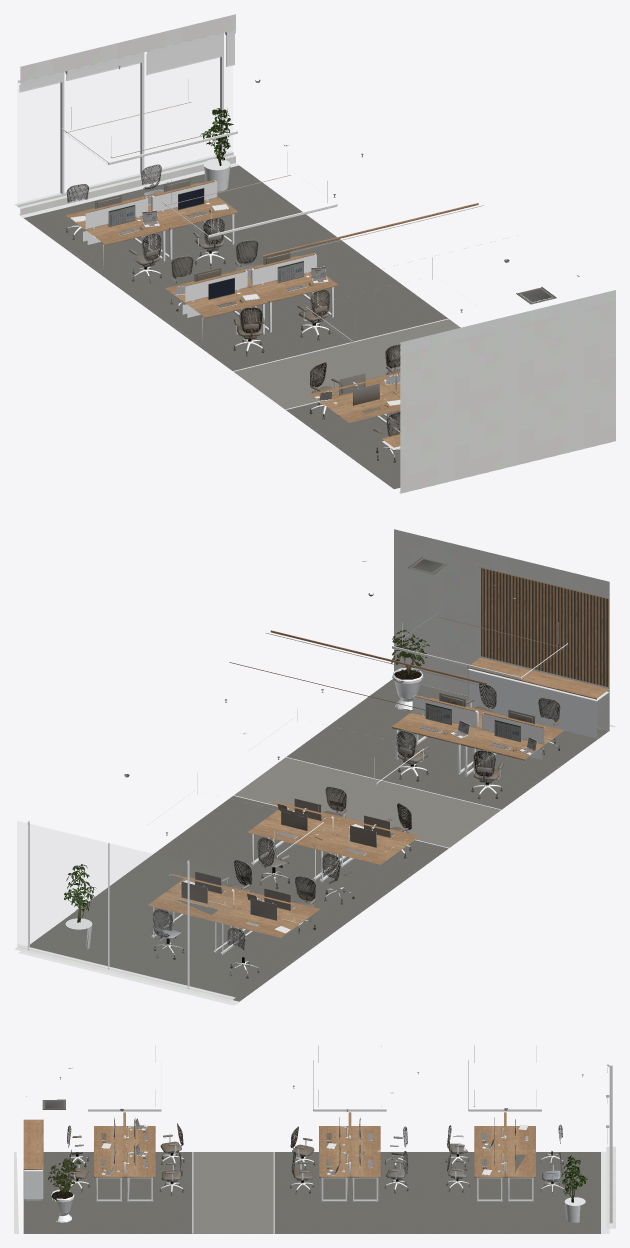
Rendered from z-open_c-lite.full.1b01436e.glb.
3 views of the same model, one above another, from view 1: azimuth 30°, elevation 25°; view 2: azimuth 150°, elevation 25°; view 3: azimuth 270°, elevation 25° (orthographic). The views are drawn at different scales.
Parts seen in each view (by area): view 1: open_c_carpet, open_c_plaster, open_c_satin, open_c_fx, open_c_oak, open_c_emit, open_c_metal_lit, open_c_veg_atlas; view 2: open_c_carpet, open_c_plaster, open_c_oak, open_c_satin, open_c_fx, open_c_proxy_slat, open_c_veg_atlas, open_c_emit, open_c_metal_lit; view 3: open_c_carpet, open_c_oak, open_c_satin, open_c_fx, open_c_metal_lit, open_c_veg_atlas, open_c_plaster.
Part boxes in pixels (x1,y1,x2,y2): open_c_carpet: (24,165,460,488); open_c_plaster: (14,14,615,493); open_c_satin: (16,30,579,449); open_c_fx: (66,66,556,462); open_c_oak: (65,180,478,447); open_c_emit: (65,102,483,341); open_c_metal_lit: (23,145,400,456); open_c_veg_atlas: (200,108,233,165); open_c_carpet: (27,679,609,1002); open_c_plaster: (14,529,615,1001); open_c_oak: (148,630,609,937); open_c_satin: (16,560,608,1005); open_c_fx: (124,557,560,978); open_c_proxy_slat: (481,568,608,687); open_c_veg_atlas: (64,630,429,922); open_c_emit: (266,566,607,857); open_c_metal_lit: (156,696,558,1001); open_c_carpet: (23,1152,600,1233); open_c_oak: (23,1112,535,1177); open_c_satin: (23,1045,612,1233); open_c_fx: (42,1072,583,1195); open_c_metal_lit: (67,1092,601,1233); open_c_veg_atlas: (48,1155,587,1202); open_c_plaster: (14,1146,615,1233).
Size of the model in its own units: 5 by 3.35 by 15.5.
Materials: 10 (7 with a texture image).
